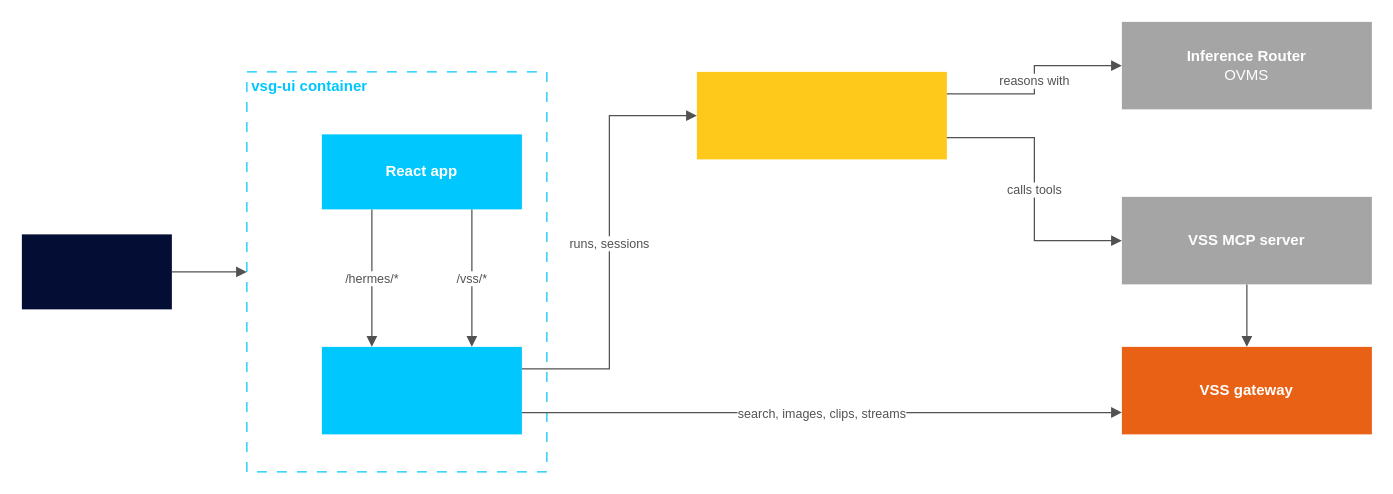
The diagram is 1393 pixels wide and 494 high, and some of its shapes have lost their labels. The shapes that lost their labels are listed below. From the top down, each one's centre as x and y in pixels, then its label:
At (821,115): "Hermes agent API VSG agent skills".
At (96,271): "Operator browser".
At (421,390): "nginx allowlist proxy adds Hermes key".
